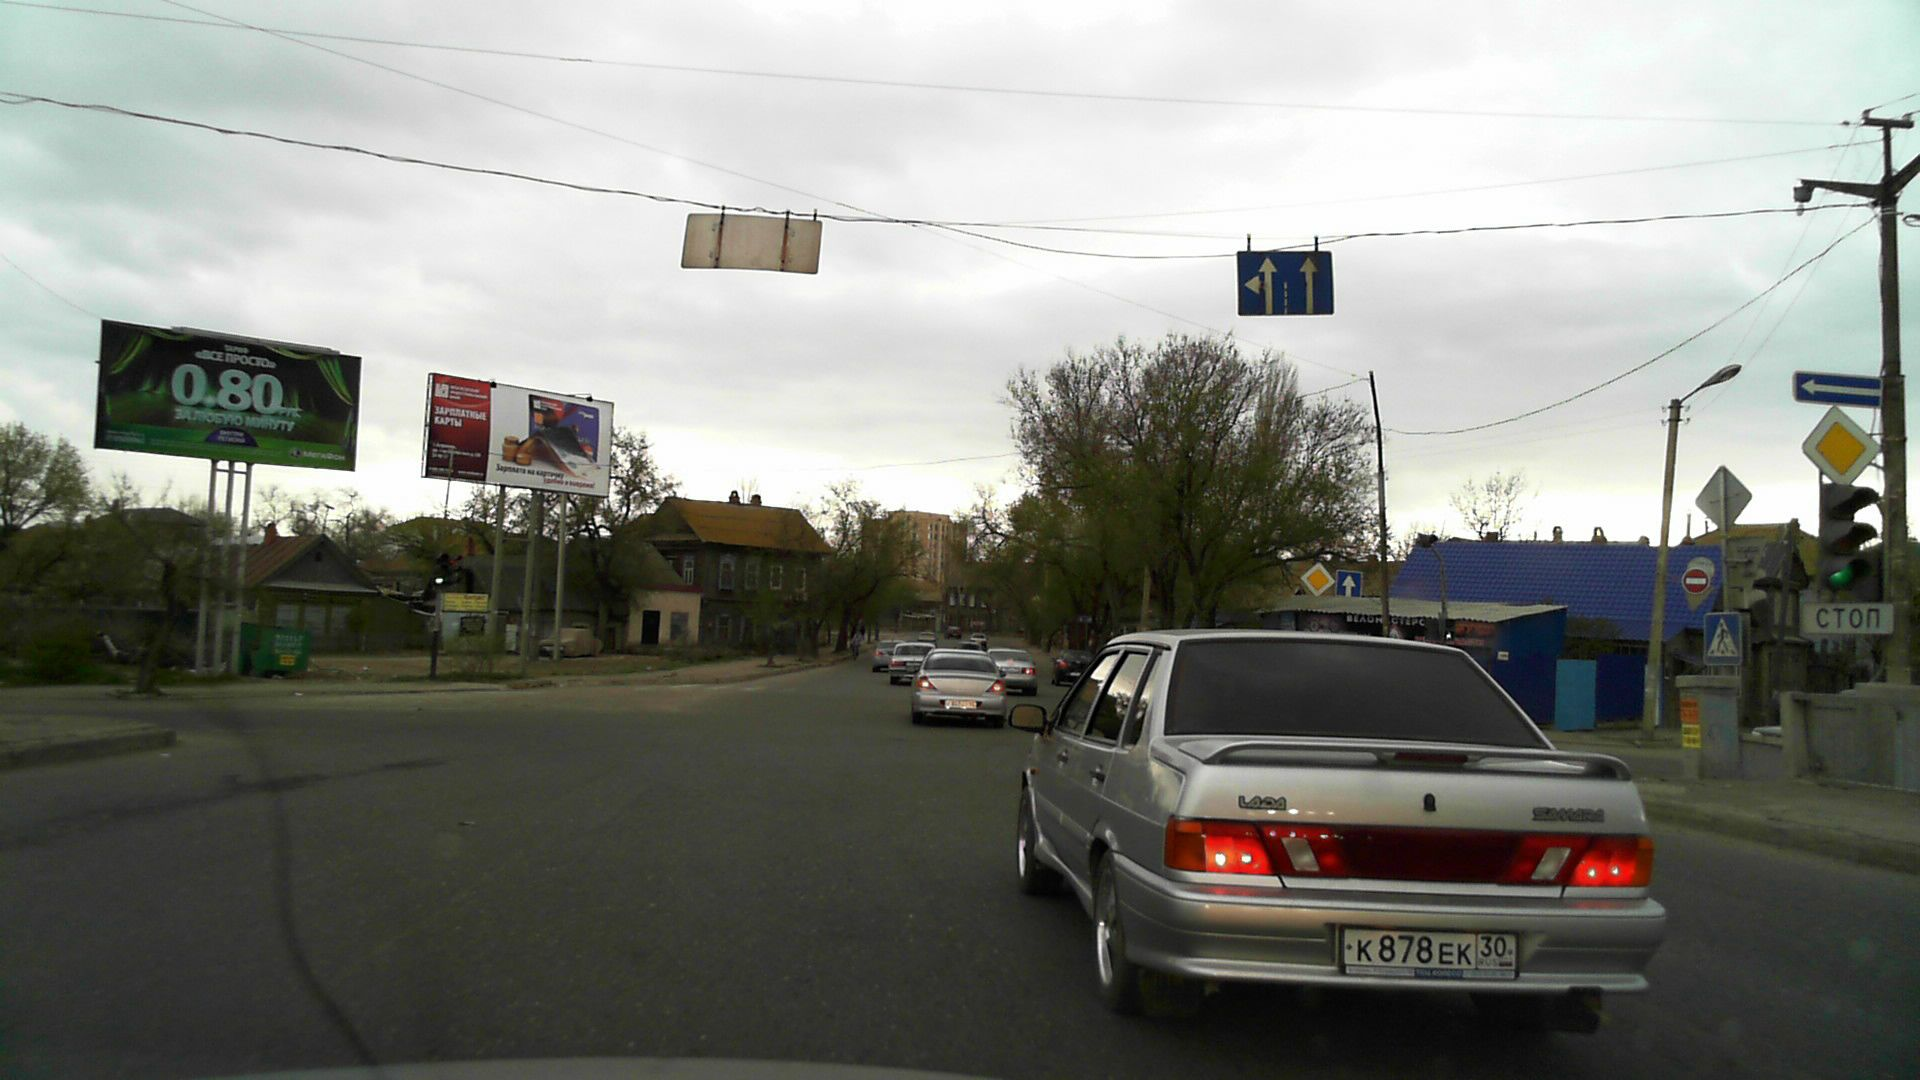One-Way Traffic: (1793, 372, 1882, 407)
